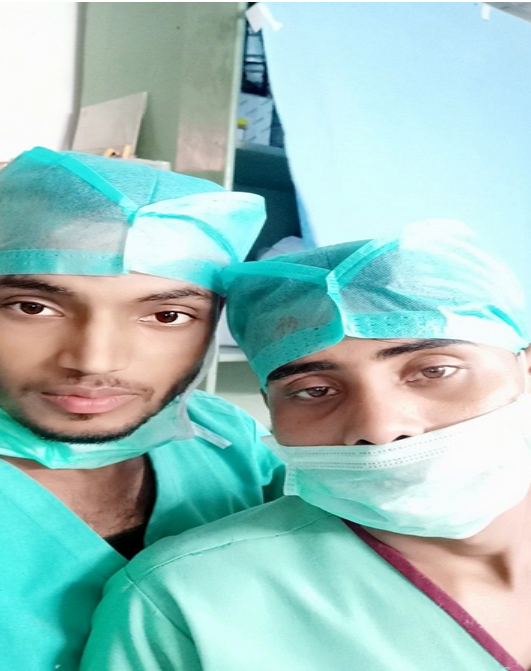mask_weared_incorrect: (222, 216, 531, 543)
